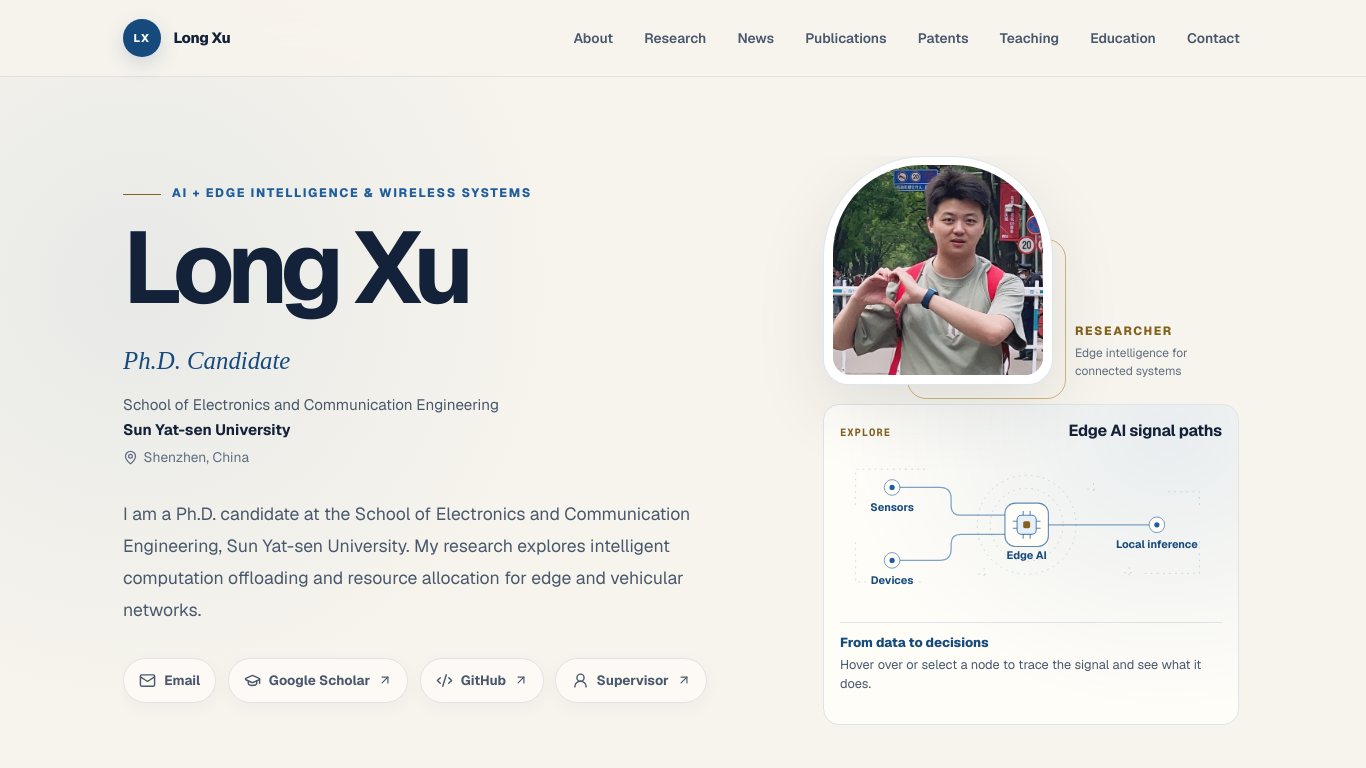
it: academic homepage hero › previews a single signal path and restores the pinned edge node when the pointer leaves
The width and height of the screenshot is (1366, 768).
Click the button "Edge AI" at [1027, 525], box [1005,503,1049,547]
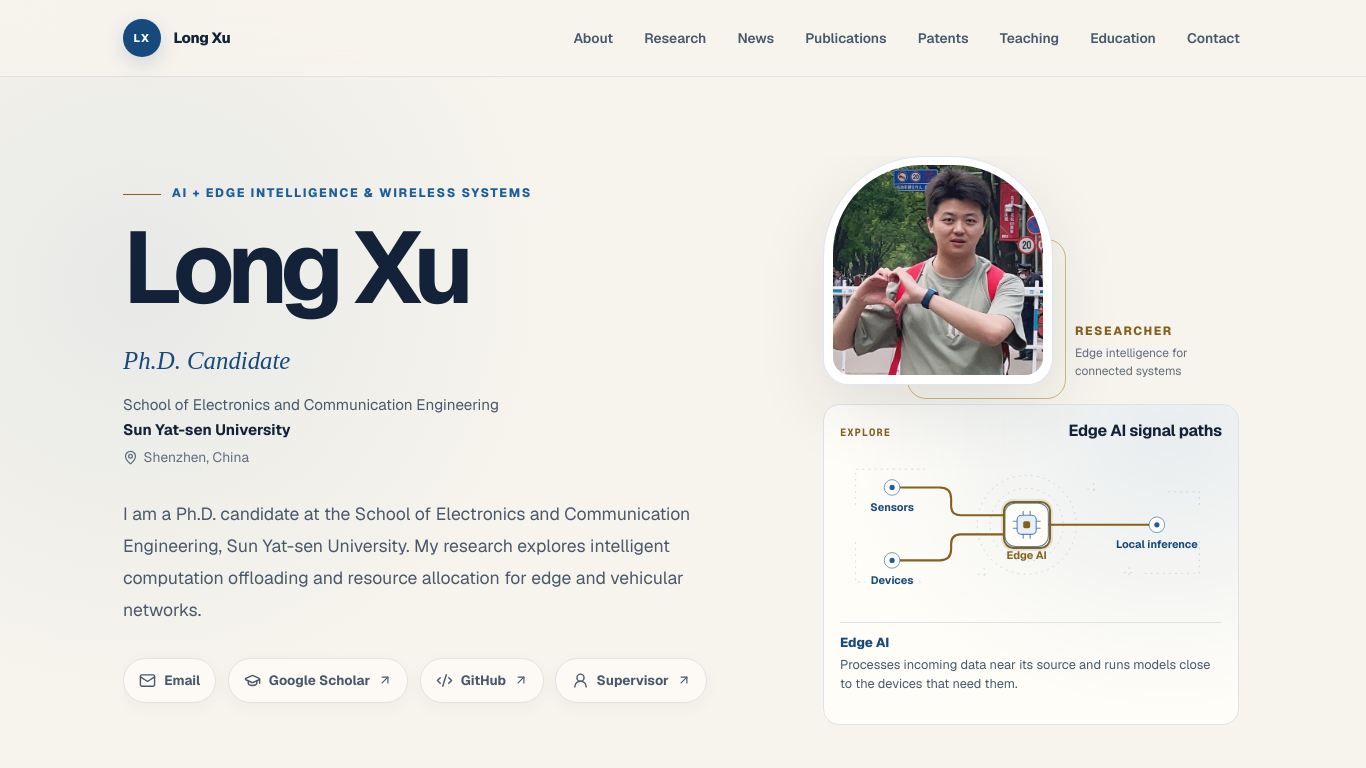
Result: the element that starts with "Edge AI" shows "Processes incoming data near its source" at [840,656,1210,692]
Hover over the button "Sensors" at [892, 487], box [870,465,914,509]
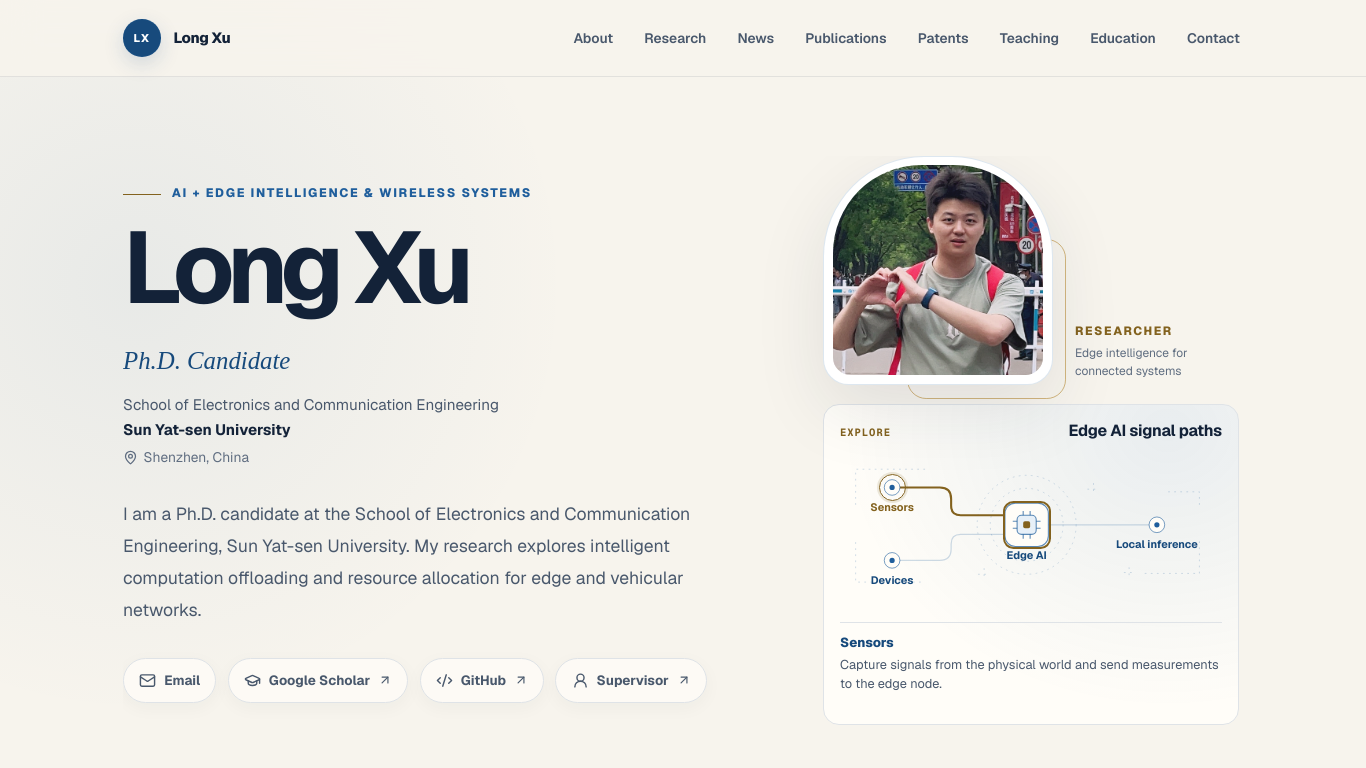
Result: the text "Capture signals from the physical world" is shown at [840,656,1219,692]
Move the pointer off the button "Sensors", box [870,465,914,509]
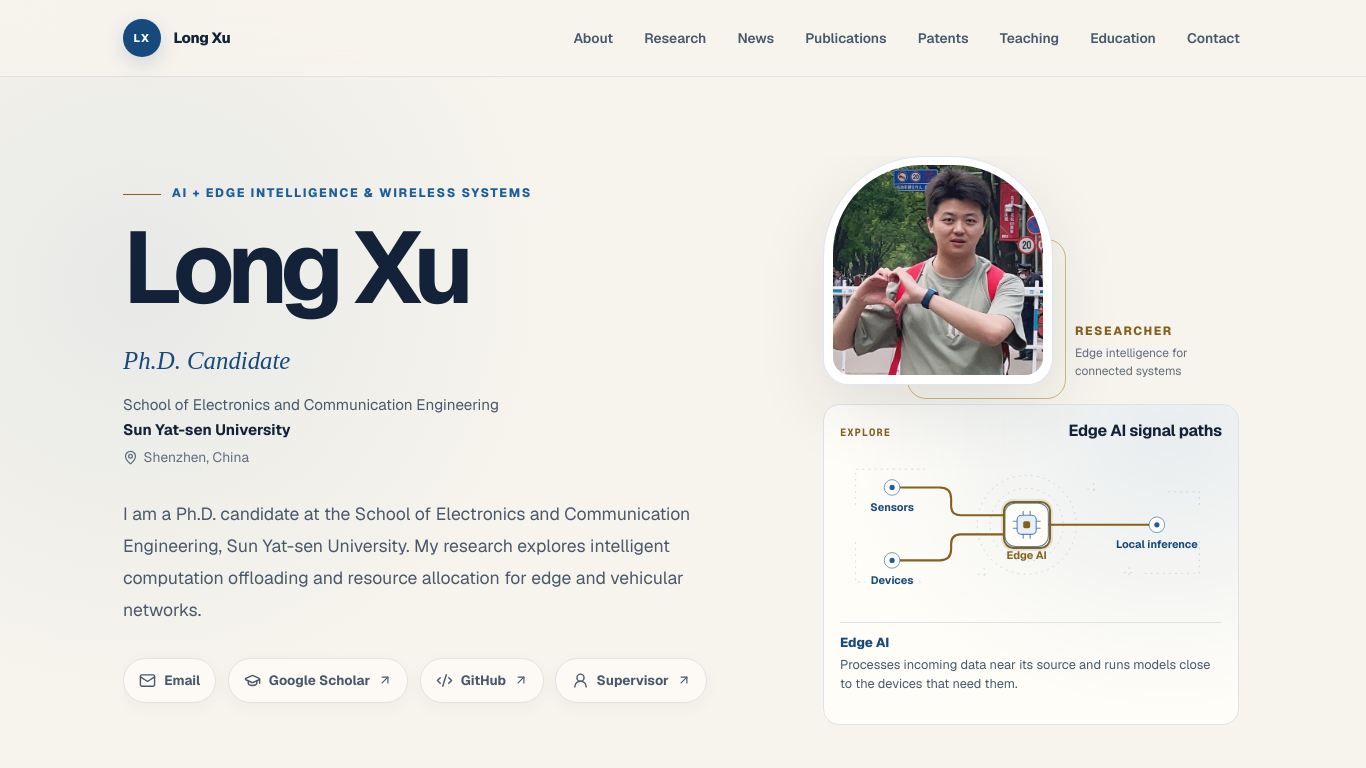
Result: the element that starts with "Edge AI" shows "Processes incoming data near its source" at [840,656,1210,692]
Press Escape in the button "Edge AI", box [1005,503,1049,547]
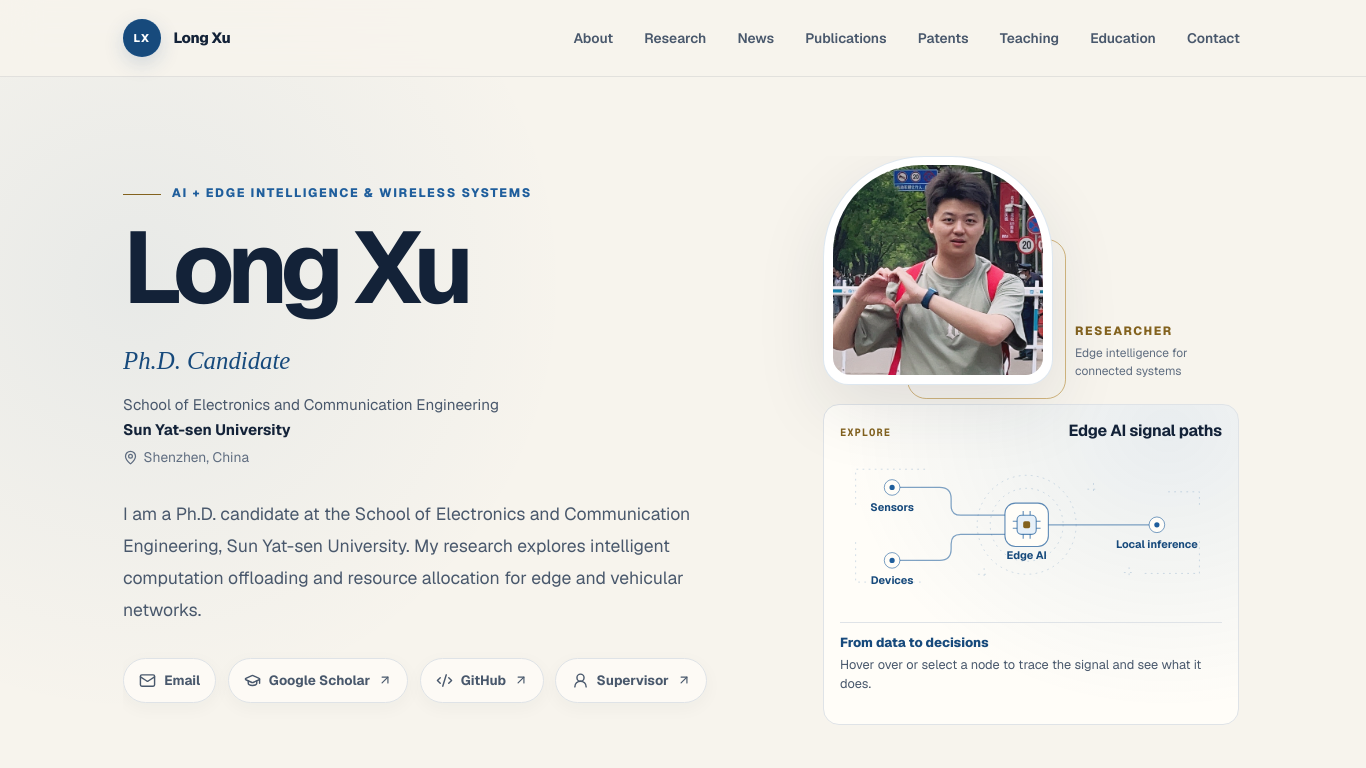
Hover over the button "Sensors" at [892, 487], box [870,465,914,509]
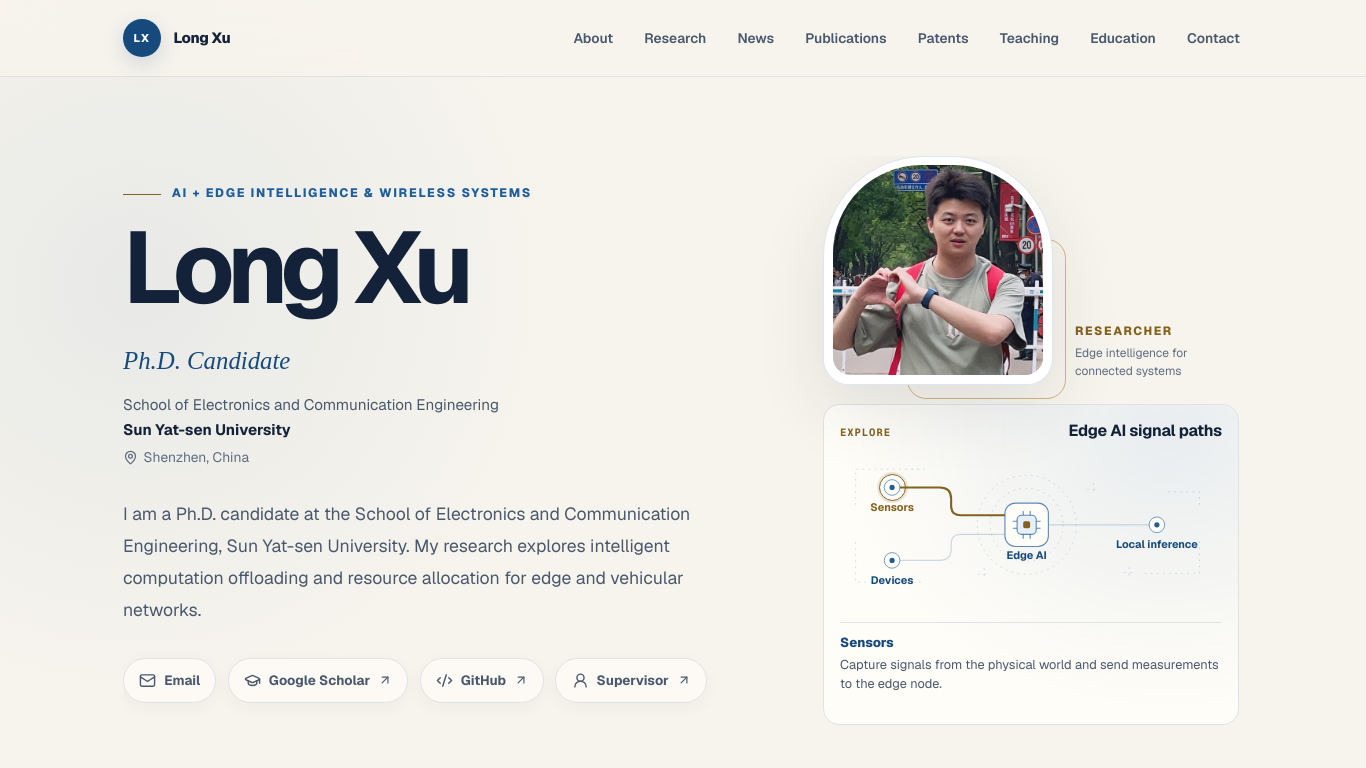
Click the button "Edge AI" at [1027, 525], box [1005,503,1049,547]
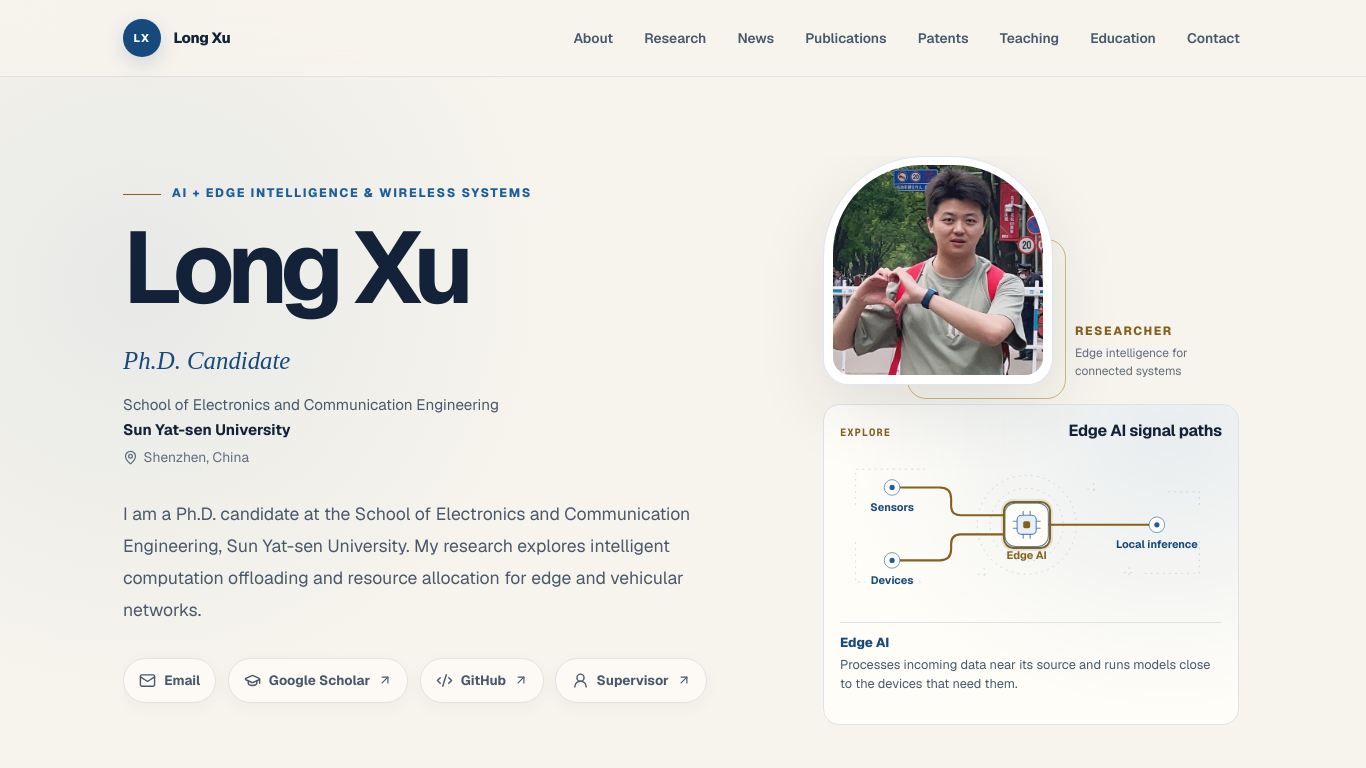
Result: the element that starts with "Edge AI" shows "Processes incoming data near its source" at [840,656,1210,692]
